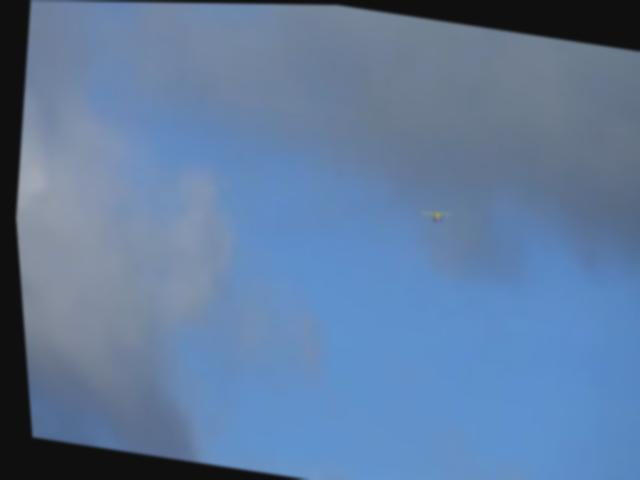plane: (416, 208, 450, 226)
